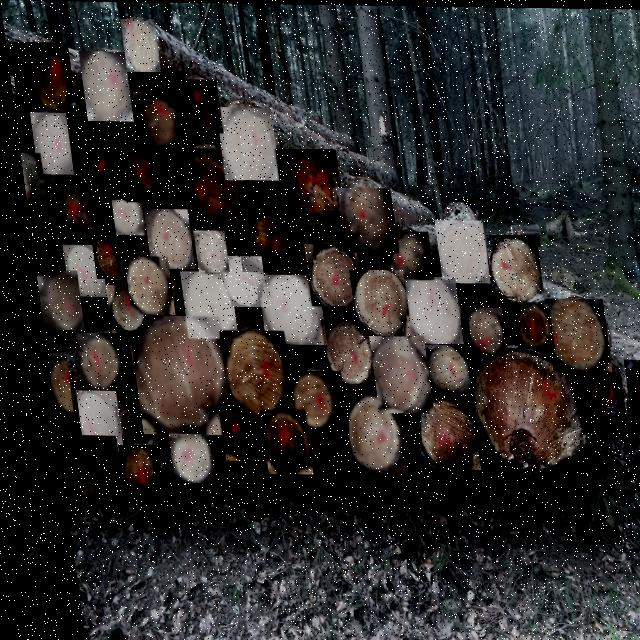wood-log: (451, 346, 575, 471), (119, 315, 224, 435), (169, 148, 245, 237), (210, 330, 284, 417), (397, 392, 469, 469), (536, 297, 603, 374), (271, 148, 339, 222), (360, 334, 423, 412), (330, 395, 393, 472), (249, 274, 318, 344), (230, 202, 298, 272), (213, 106, 276, 180), (8, 42, 73, 110), (342, 269, 404, 338), (396, 275, 454, 343), (479, 233, 537, 301), (332, 187, 392, 252), (173, 271, 230, 338), (77, 51, 131, 121), (297, 243, 356, 306), (312, 319, 369, 384), (46, 172, 101, 238), (277, 370, 337, 430), (428, 219, 483, 282), (563, 371, 617, 434), (249, 409, 301, 474), (130, 91, 183, 154), (138, 208, 188, 269), (62, 435, 111, 496), (117, 256, 167, 315), (28, 270, 76, 330), (65, 390, 111, 451), (27, 112, 69, 175), (66, 333, 113, 389), (208, 407, 255, 461), (173, 79, 220, 132), (214, 255, 261, 307), (78, 144, 122, 199), (115, 147, 157, 202), (380, 230, 427, 279), (416, 343, 461, 394), (84, 227, 127, 280), (157, 433, 202, 483), (56, 245, 99, 297), (106, 445, 151, 493), (614, 358, 640, 441), (120, 18, 159, 72), (98, 285, 138, 333), (504, 303, 545, 348), (459, 306, 498, 352), (37, 356, 63, 416), (187, 230, 222, 273), (23, 220, 49, 275), (106, 194, 140, 235), (16, 153, 42, 205), (16, 153, 29, 204)
